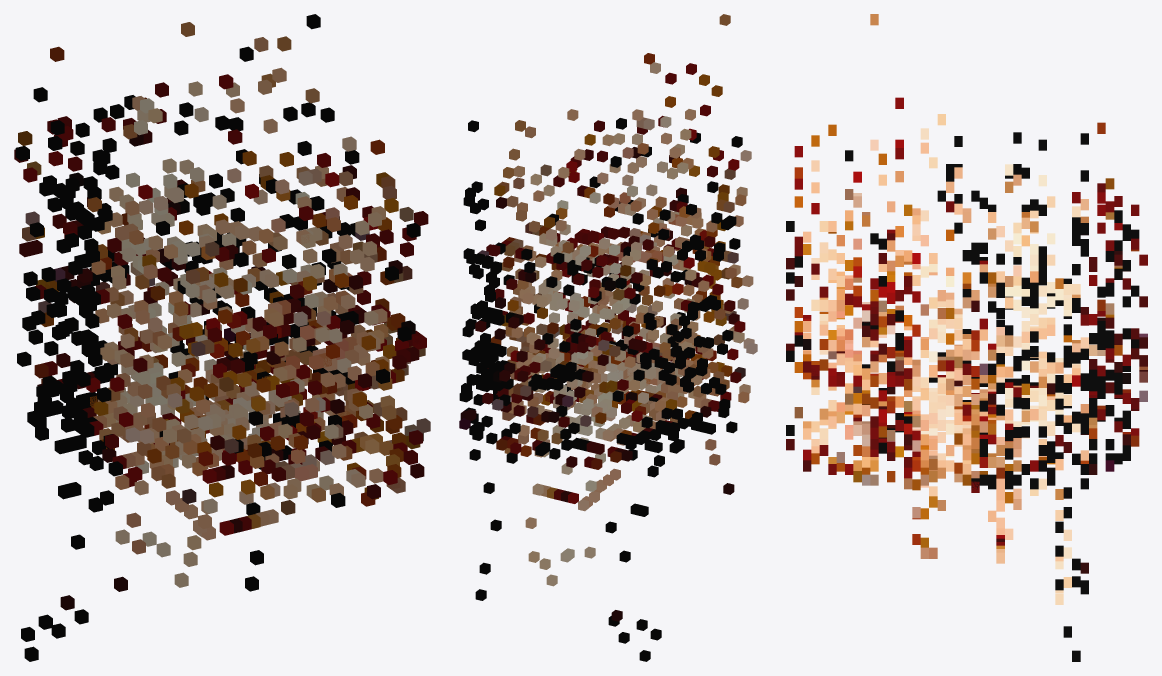
The model's file is test4good.glb.
The picture shows the model from 3 angles, left to right: view 1: azimuth 30°, elevation 25°; view 2: azimuth 150°, elevation 25°; view 3: azimuth 270°, elevation 25°; orthographic projection. The views are drawn at different scales.
Bounding box in the file's own units: 6296 × 14267 × 7963.
